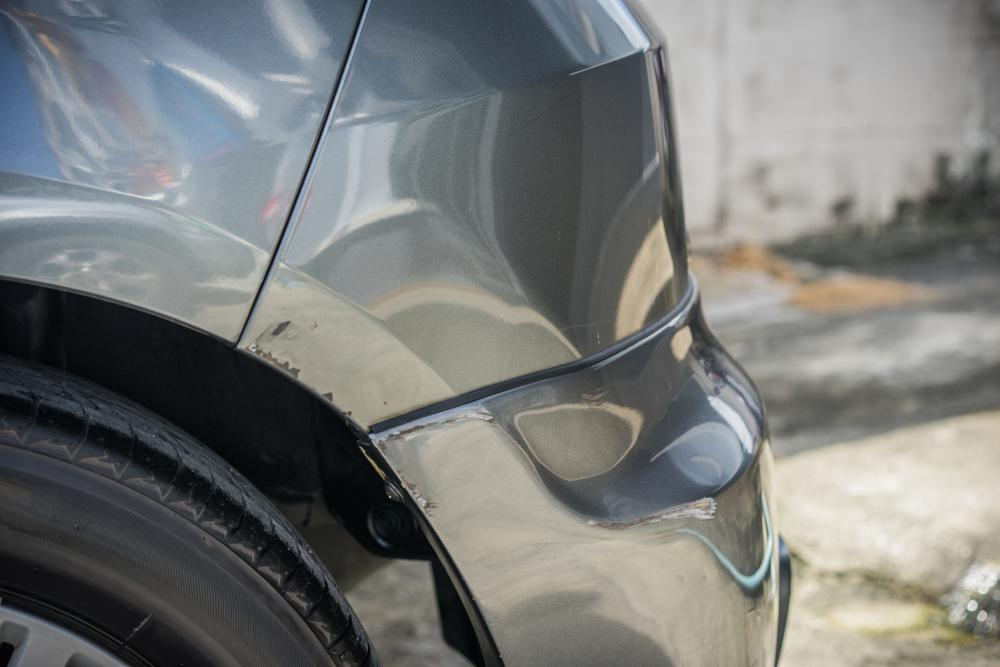scratch: (367, 400, 501, 515), (246, 319, 341, 406), (581, 492, 732, 536)
